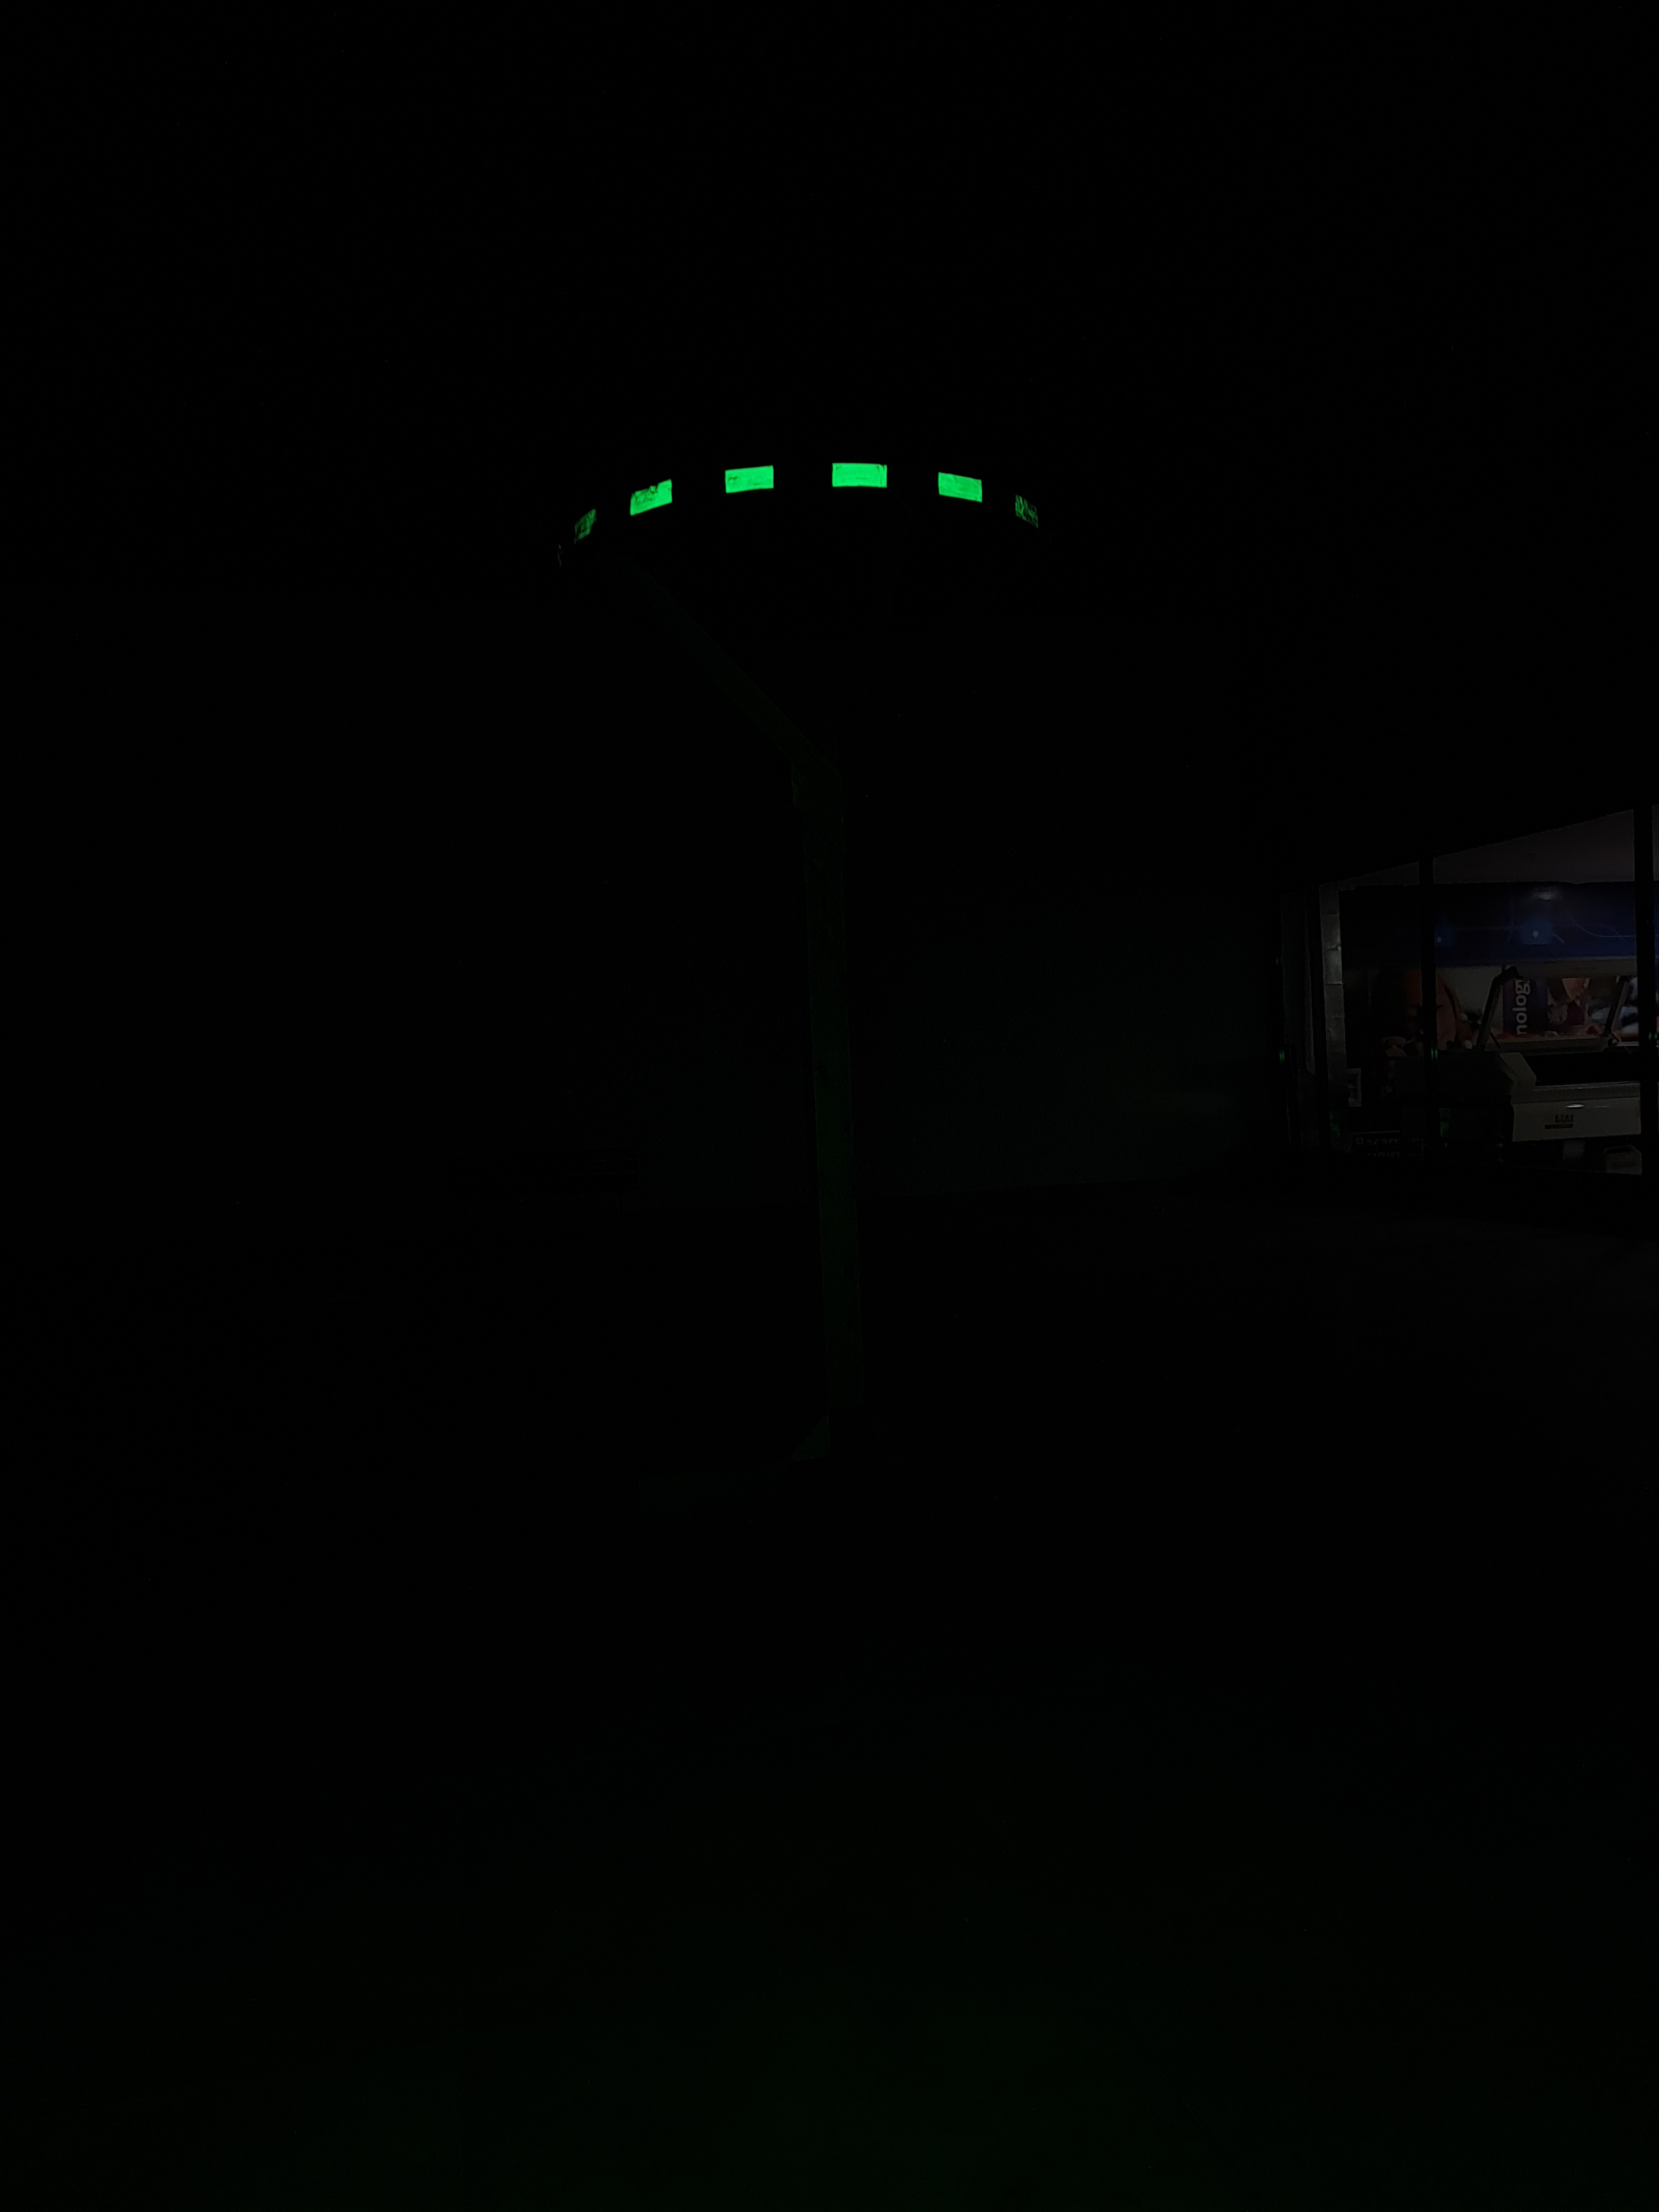hoop: (530, 449, 1068, 556)
